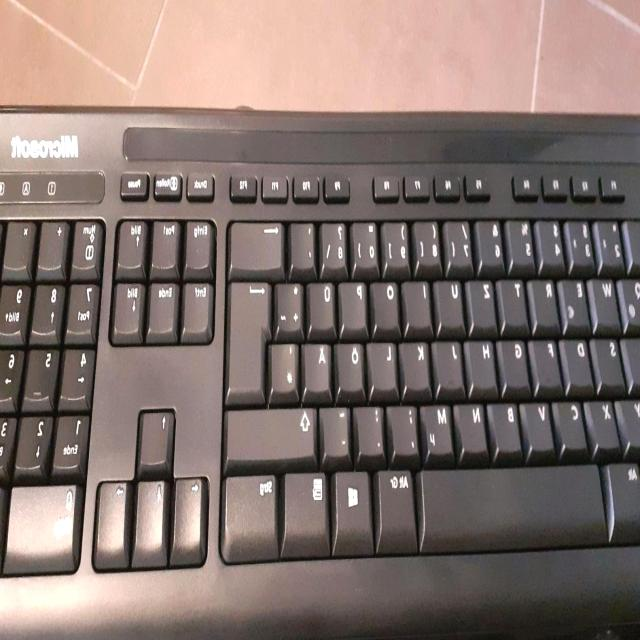0: (354, 216, 380, 267)
2: (597, 215, 627, 265)
3: (569, 214, 597, 264)
4: (540, 214, 567, 264)
5: (510, 214, 536, 264)
6: (479, 215, 507, 265)
7: (447, 215, 475, 267)
8: (416, 215, 443, 265)
9: (384, 215, 412, 266)
accent: (293, 216, 318, 267)
ae: (306, 337, 333, 390)
alt-left: (610, 455, 640, 540)
altgr-right: (379, 464, 420, 550)
b: (492, 396, 524, 450)
c: (556, 395, 590, 448)
comma: (391, 399, 421, 455)
d: (564, 334, 596, 386)
del: (233, 216, 286, 268)
e: (562, 273, 592, 327)
enter: (229, 276, 275, 397)
f: (534, 334, 564, 387)
g: (502, 334, 532, 387)
h: (469, 335, 499, 387)
hash: (273, 338, 300, 392)
i: (405, 275, 433, 325)
j: (435, 335, 465, 389)
k: (404, 336, 432, 388)
keyboard: (0, 111, 639, 639)
l: (371, 336, 399, 389)
m: (425, 399, 455, 453)
minus: (324, 401, 352, 454)
n: (459, 398, 490, 451)
o: (374, 276, 402, 326)
oe: (339, 337, 365, 390)
p: (342, 276, 369, 327)
plus: (278, 277, 306, 330)
point: (358, 400, 386, 454)
q: (620, 273, 640, 325)
r: (532, 273, 562, 326)
s: (595, 333, 628, 386)
shift-right: (228, 402, 318, 458)
space: (422, 458, 610, 550)
ss: (324, 216, 350, 267)
strg-right: (223, 469, 283, 561)
t: (501, 273, 530, 324)
u: (438, 274, 466, 326)
ue: (311, 276, 338, 329)
v: (524, 396, 557, 449)
w: (593, 271, 622, 325)
x: (587, 394, 623, 447)
y: (617, 394, 640, 445)
z: (470, 273, 498, 326)
